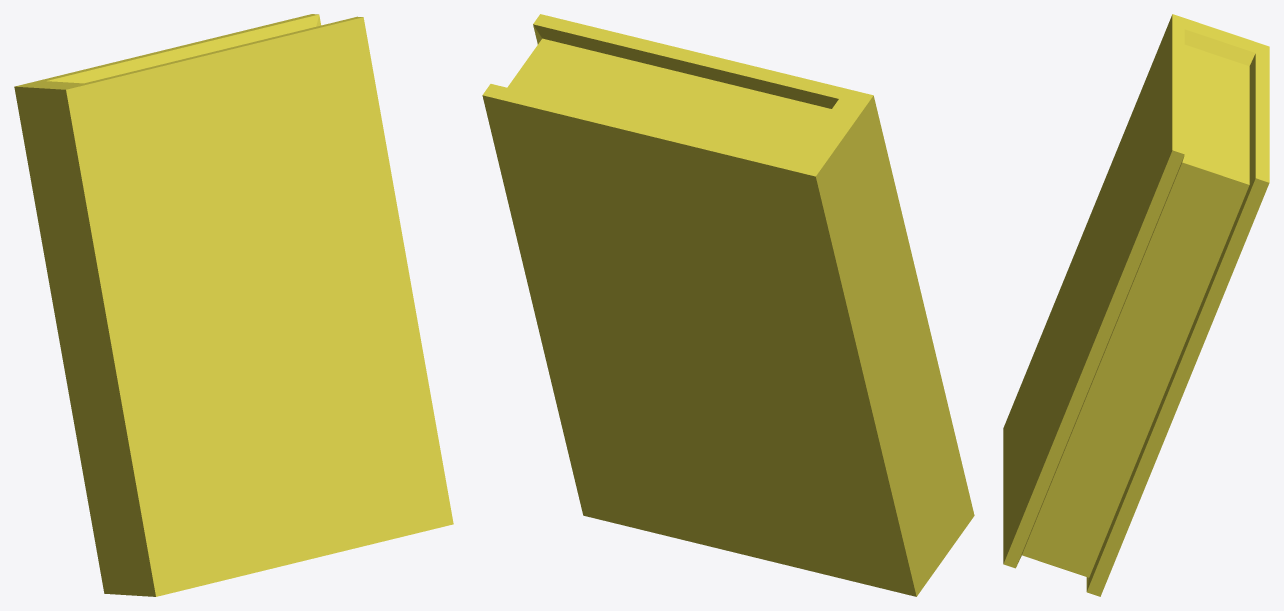
File: brouchure icon.fbx
3 views of the same model, side by side, from view 1: azimuth 30°, elevation 25°; view 2: azimuth 150°, elevation 25°; view 3: azimuth 270°, elevation 25° (orthographic). The views are drawn at different scales.
Parts seen in each view (by area): view 1: BOOL BUTTON; view 2: BOOL BUTTON; view 3: BOOL BUTTON.
Boxes of the visible parts, x1,y1,x2,y2 form: BOOL BUTTON: (14, 14, 453, 596); BOOL BUTTON: (482, 14, 974, 596); BOOL BUTTON: (1003, 14, 1269, 596).
Bounding box in the file's own units: 20.53 × 31.36 × 16.94.
